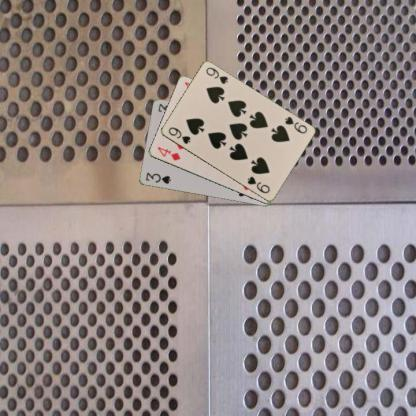3s: (142, 170, 172, 186)
4d: (154, 144, 182, 162)
9s: (282, 113, 308, 136), (165, 124, 192, 146)
